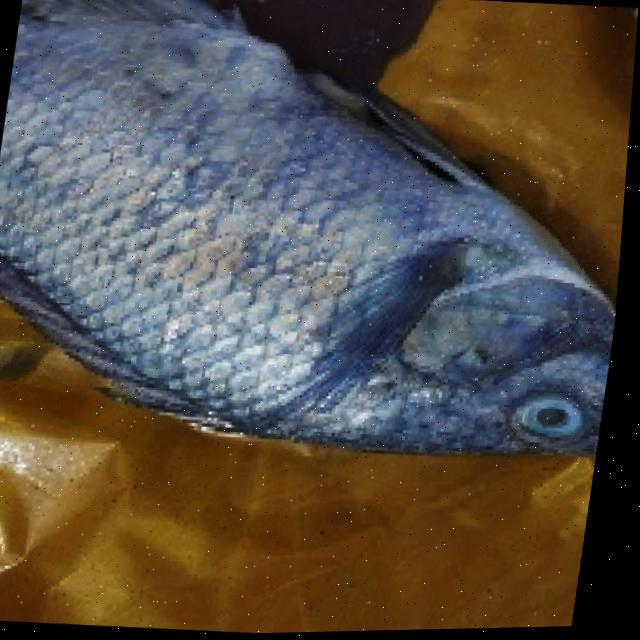Non-Fresh: (36, 25, 638, 510), (507, 374, 607, 462)
